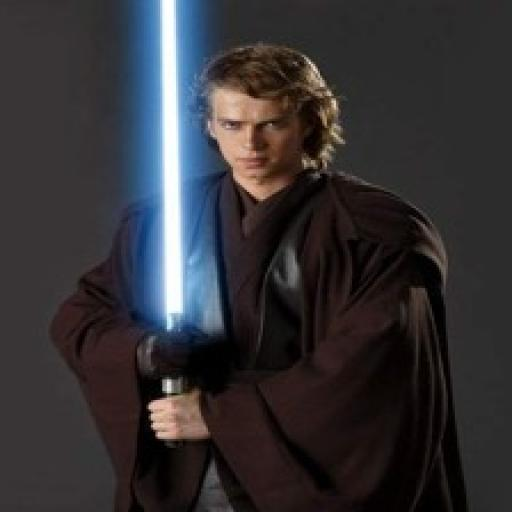human: (48, 20, 459, 512)
lightsaber: (152, 2, 191, 429)
